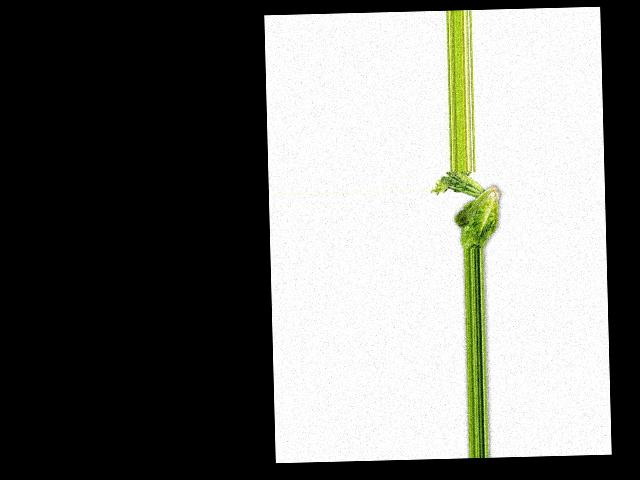lettuce: (448, 182, 499, 250)
